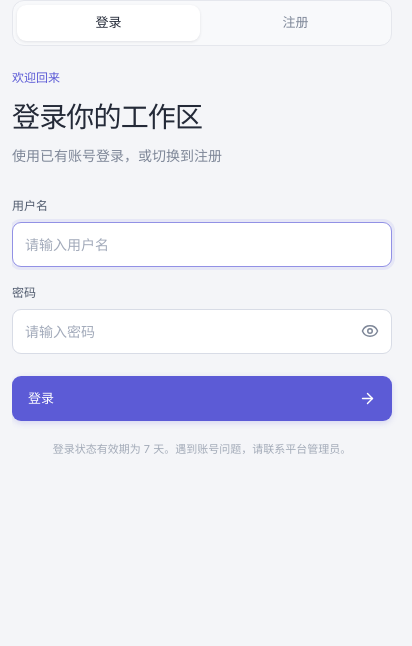
AuthForm › 登录成功后回传 login，并切换页签重置密码输入
In the field with id "username": [202, 244] box [12,222,392,267], type "alice"
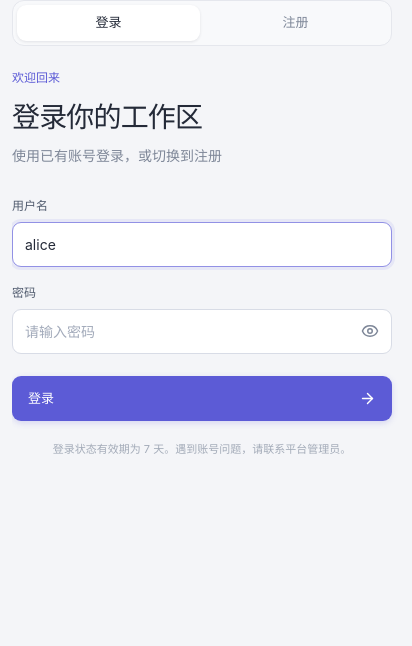
In the password field labelled "密码": [202, 332] box [12,309,392,354], type "password123"
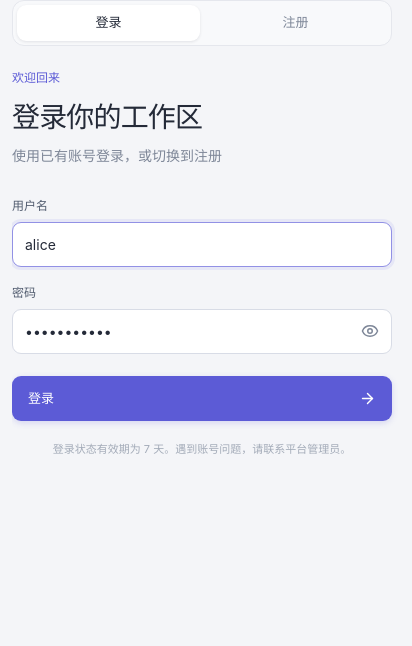
Submit the form
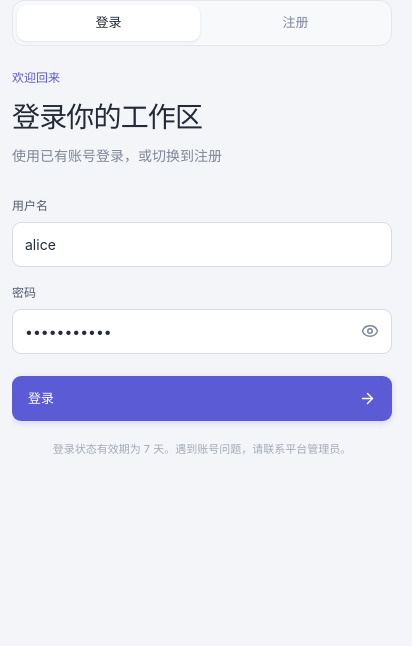
Click the tab "注册": [296, 23] box [204,5,387,41]
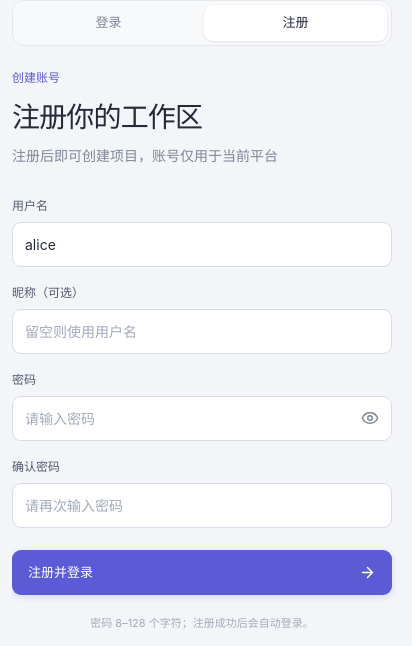
Result: the button with class "login-form__submit" reads "注册并登录" at [12,550,392,595]
Result: the password field labelled "密码" is empty at [12,396,392,441]
